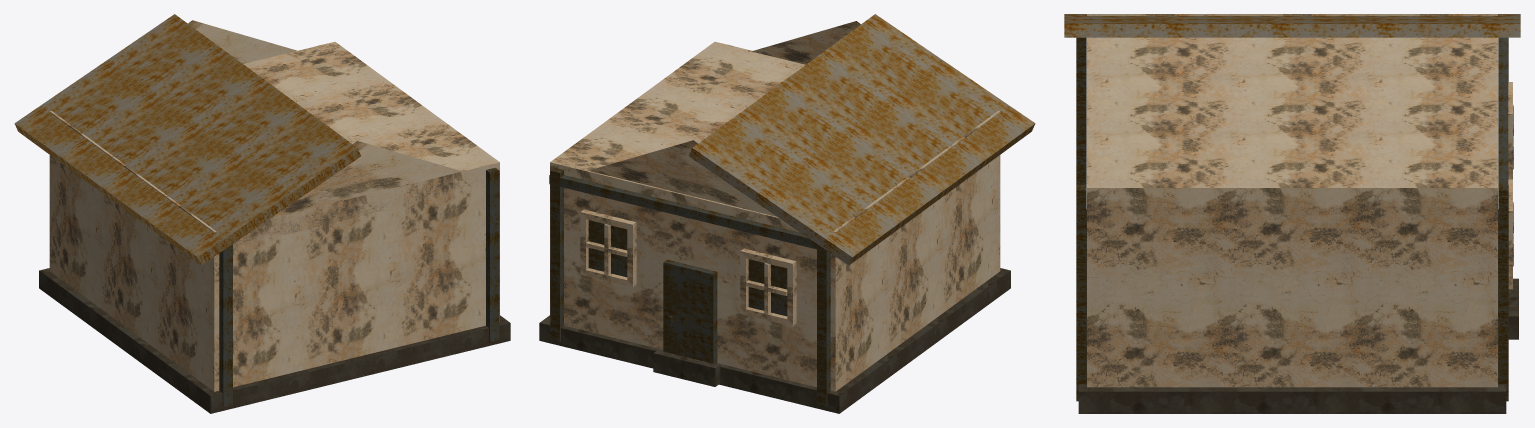
Rendered from village_house.glb.
3 renders of one model, left to right at view 1: azimuth 30°, elevation 25°; view 2: azimuth 150°, elevation 25°; view 3: azimuth 270°, elevation 25°, orthographic. The views are drawn at different scales.
Bounding box in the file's own units: 6.7 × 4.73 × 6.66.
4 materials, 4 textured.
